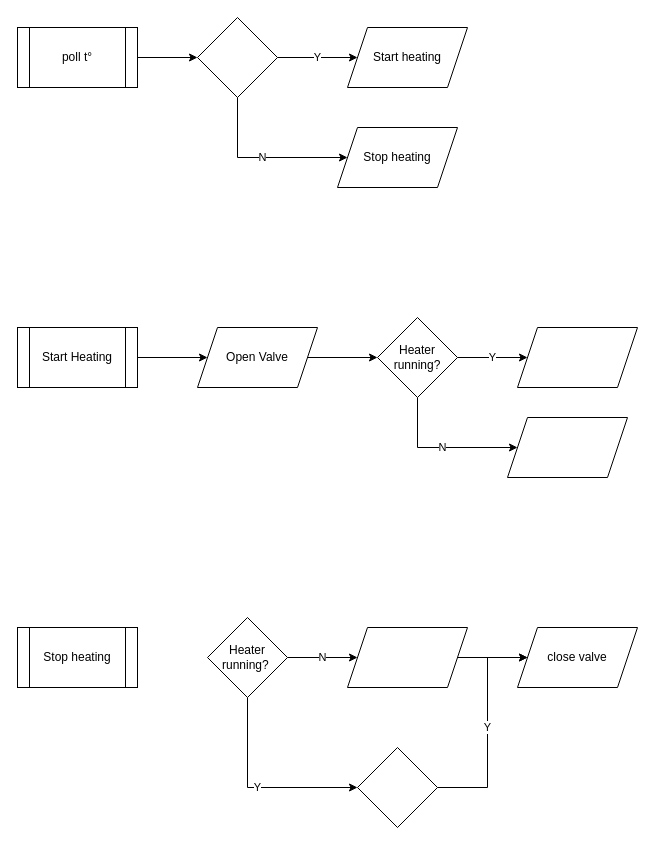
Image size: 655x845. Some labels were removed from this diagram. The shapes that lost their labels are listed below. From the top down, each one's box as (x1, y1, x2, y2) in pixels, then its label:
(196, 16, 278, 98): t°act < t°req
(516, 326, 638, 388): reset heater timer
(506, 416, 628, 478): start heater timer
(346, 626, 468, 688): Delay 10 min
(356, 746, 438, 828): Other valves open?
